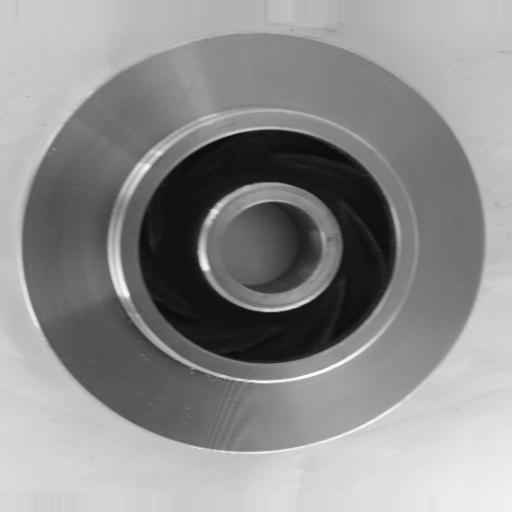polished_casting: (23, 29, 488, 457)
